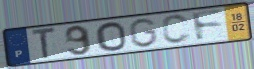9: (64, 24, 93, 56)
C: (160, 13, 193, 45)
F: (190, 8, 225, 43)
G: (128, 17, 159, 49)
O: (94, 21, 129, 52)
T: (31, 26, 58, 61)
